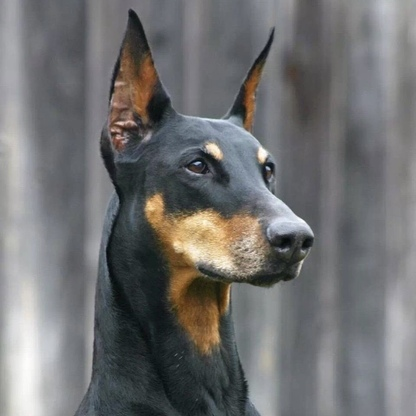doberman: (77, 6, 321, 416)
